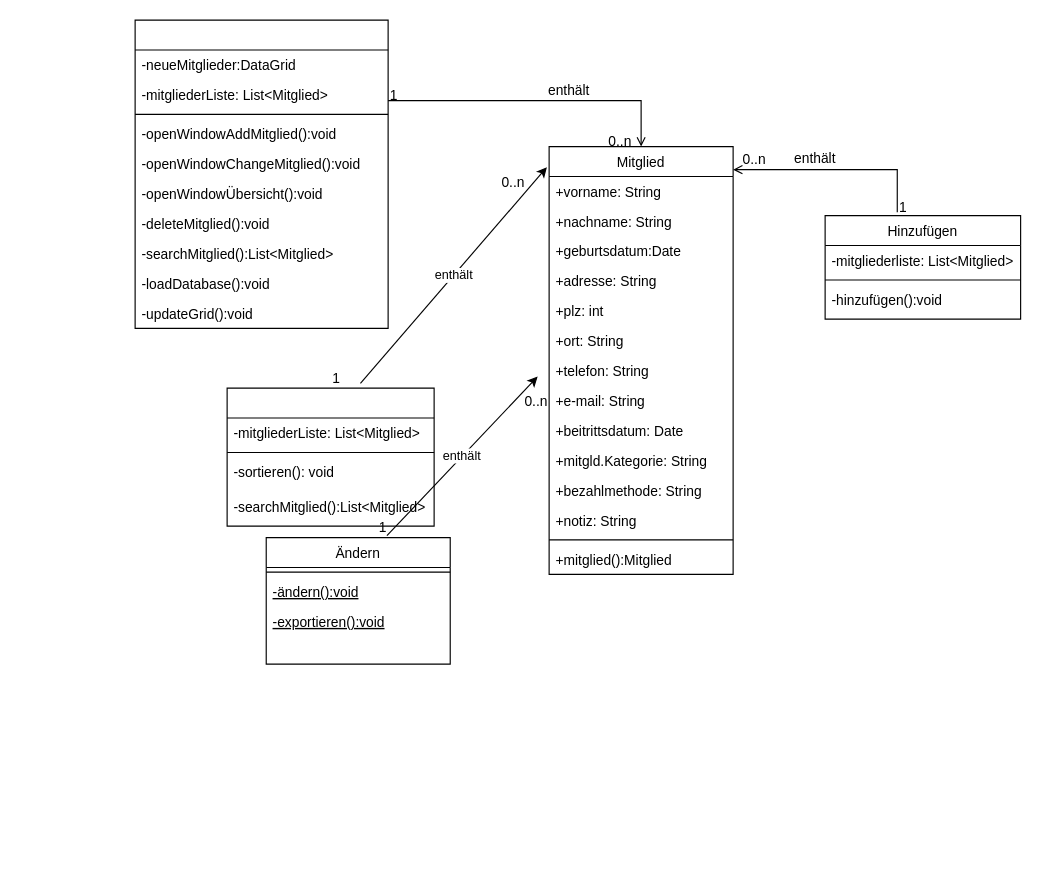
Some shapes in this 1041 by 896 pixel diagram are drawn without their labels. The shapes that lost their labels are listed below. From the top down, each one's box as (x1, y1, x2, y2) in pixels, then its label:
(134, 19, 388, 328): MainWindow
(226, 387, 434, 526): Übersicht
